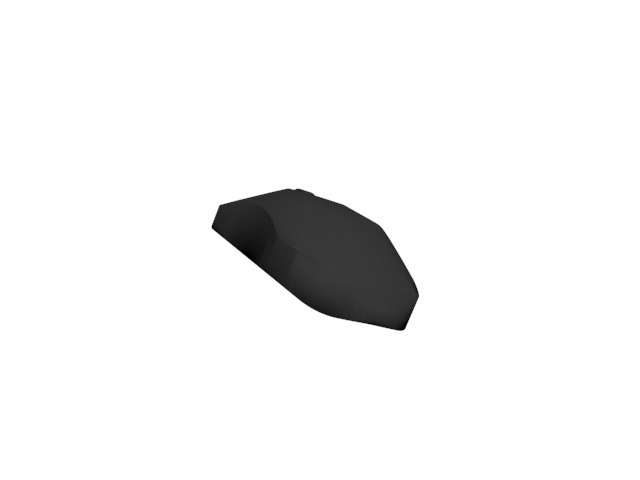mouse: (209, 185, 424, 336)
